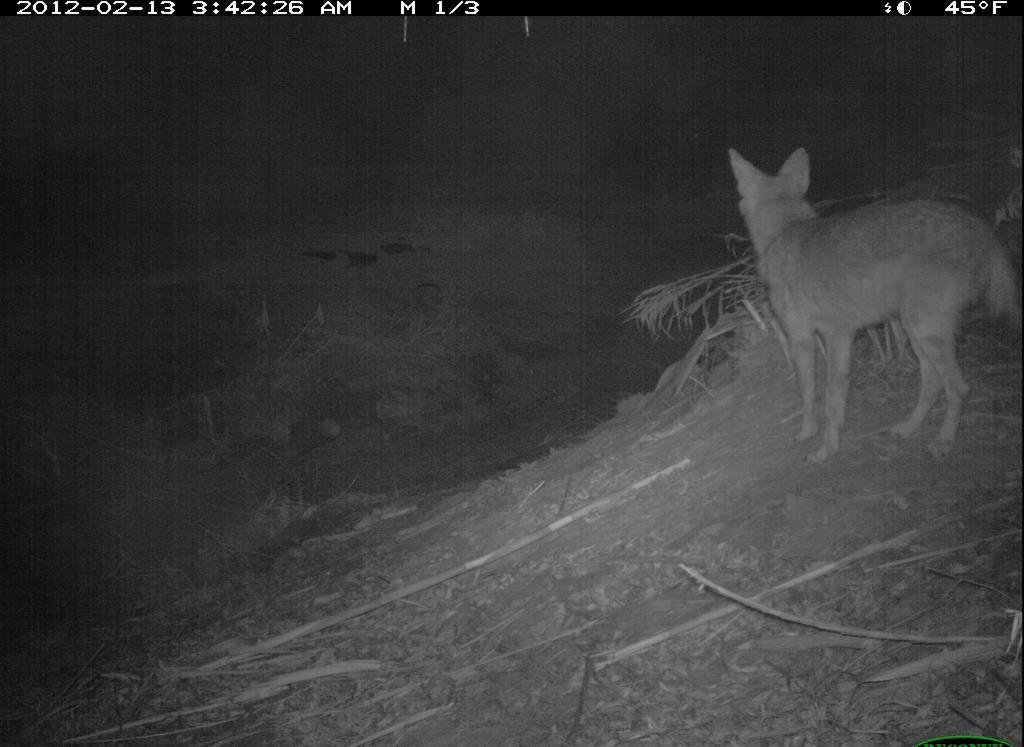coyote: (713, 130, 1023, 469)
